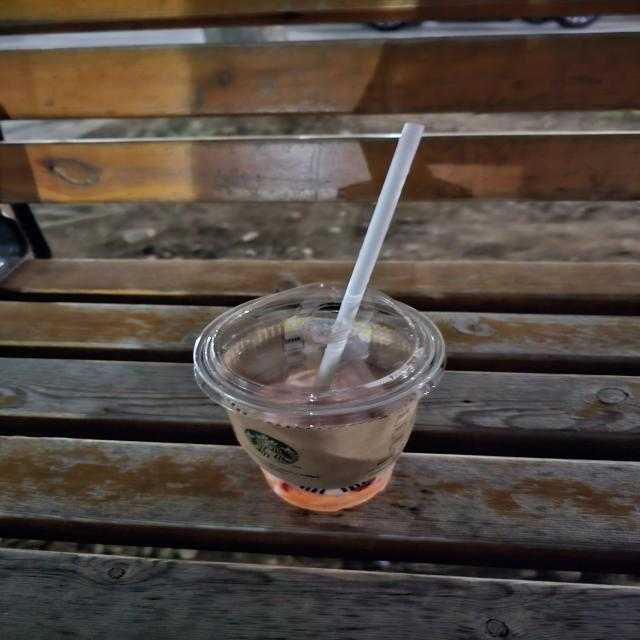cup: (188, 277, 456, 519)
